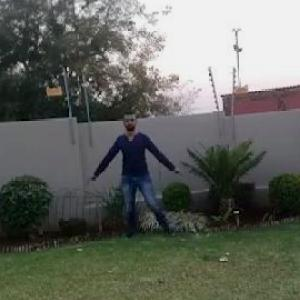land: (90, 107, 192, 242)
